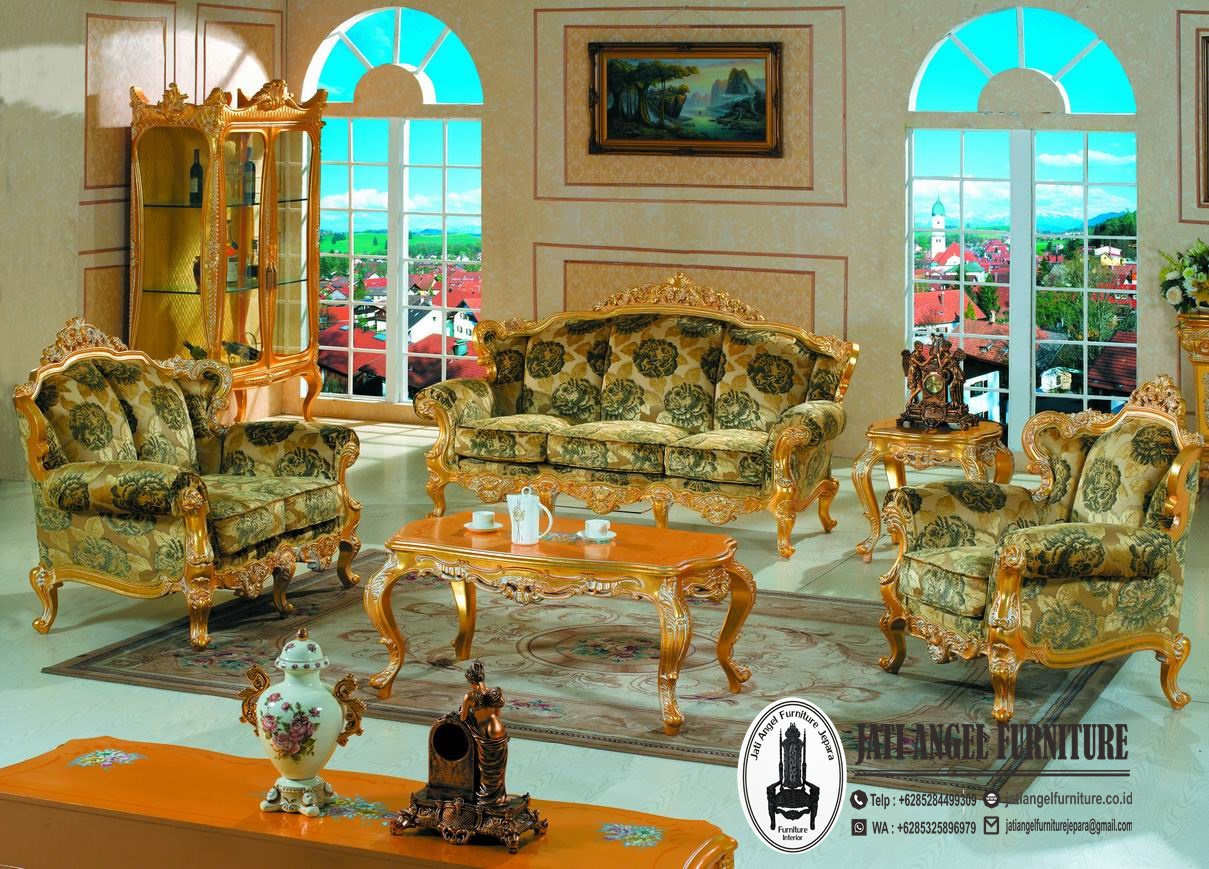gelas: (577, 515, 615, 542), (466, 508, 500, 535)
lukisan: (580, 38, 787, 161)
meja: (1, 734, 738, 869), (349, 512, 760, 701)
sova: (409, 292, 860, 539), (20, 323, 370, 626), (887, 385, 1208, 684)
tanaman: (1158, 242, 1209, 312)
